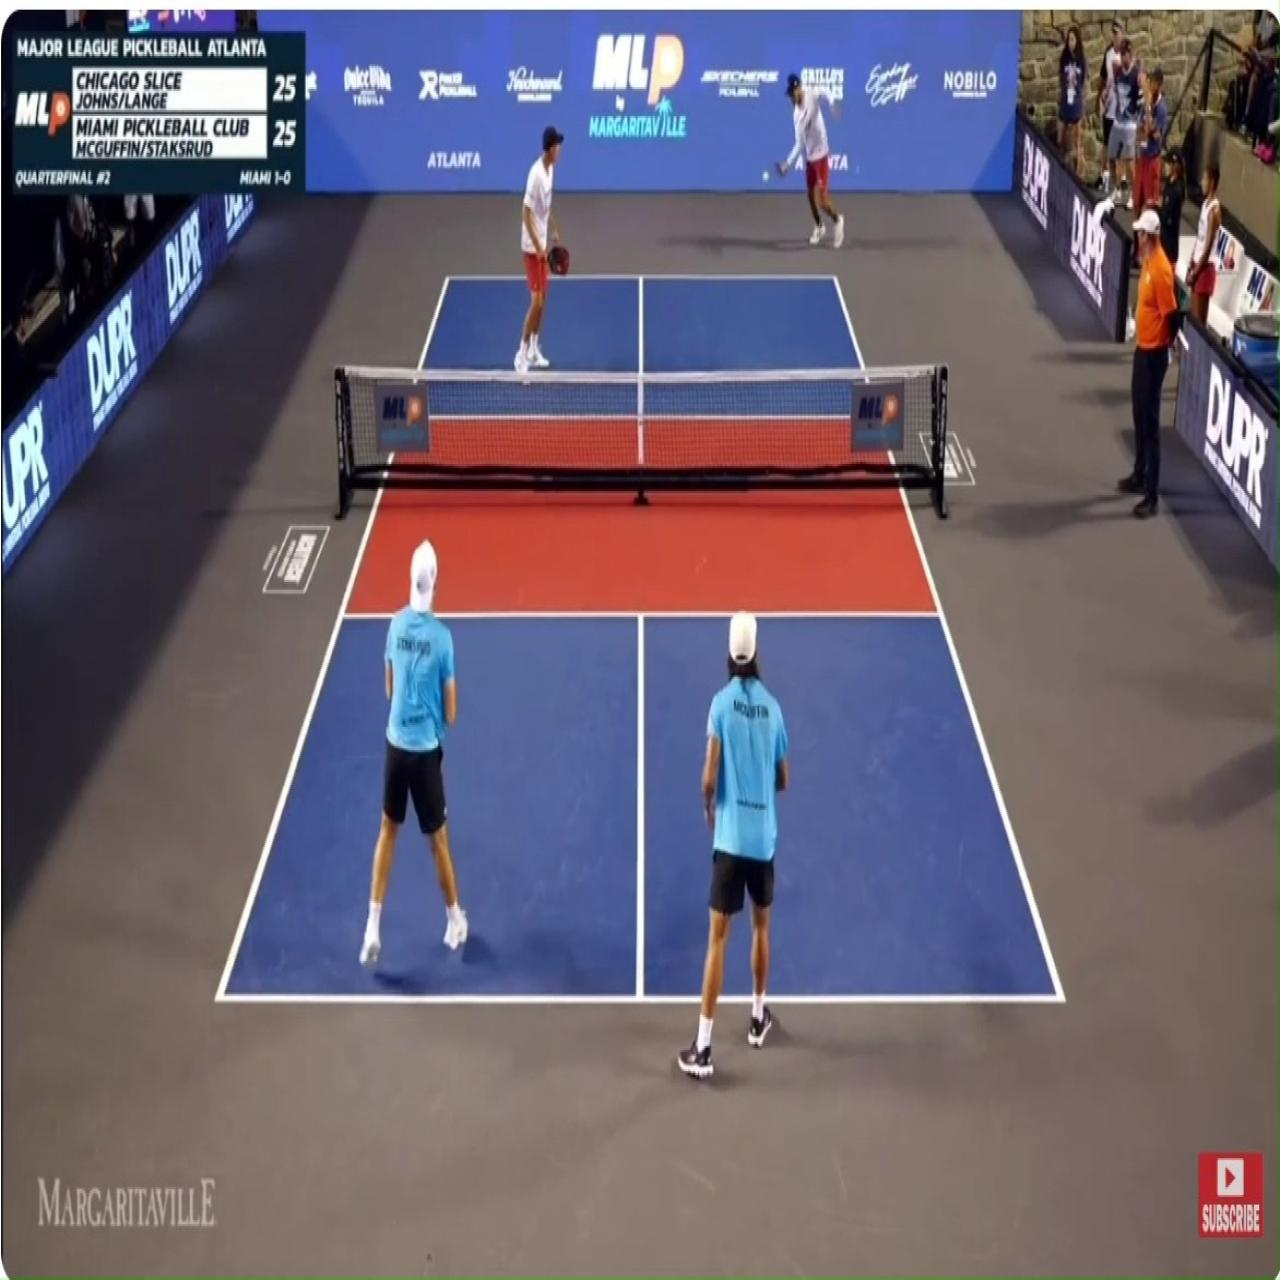pickleball: (761, 170, 770, 183)
